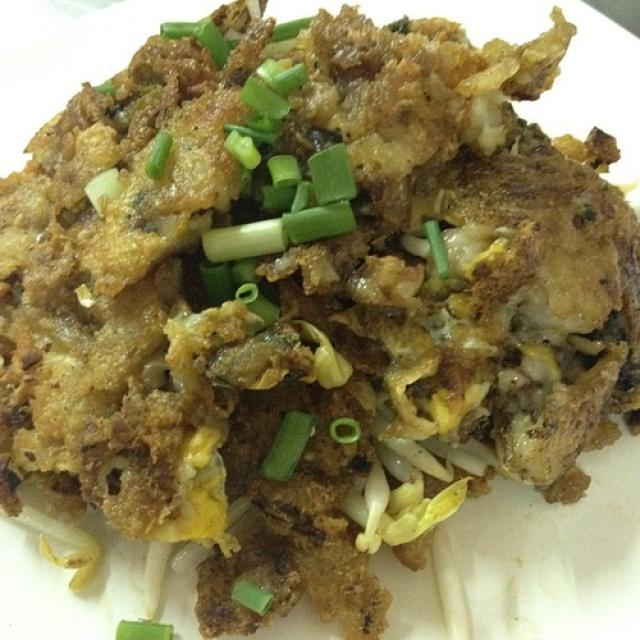炸货点心: (8, 5, 620, 616)
蛋糕甜品: (8, 5, 620, 616)
